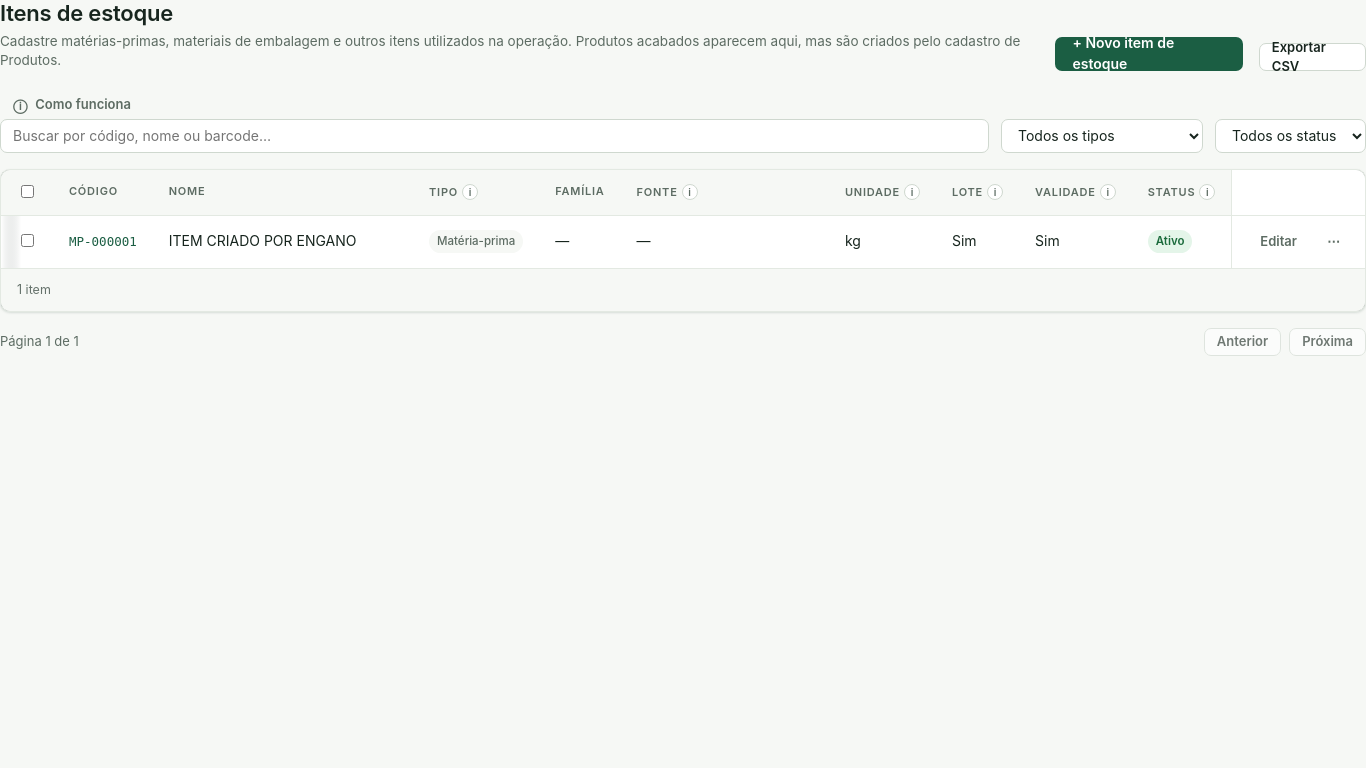
Test: Administrador › liberado pela prévia: motivo, exclusão, aviso e lista recarregada
Check: the text "MP-000001" is shown, box [53,215,153,268]
Click the button named "Mais ações de MP-000001": (1334, 242) [1318,228,1349,256]
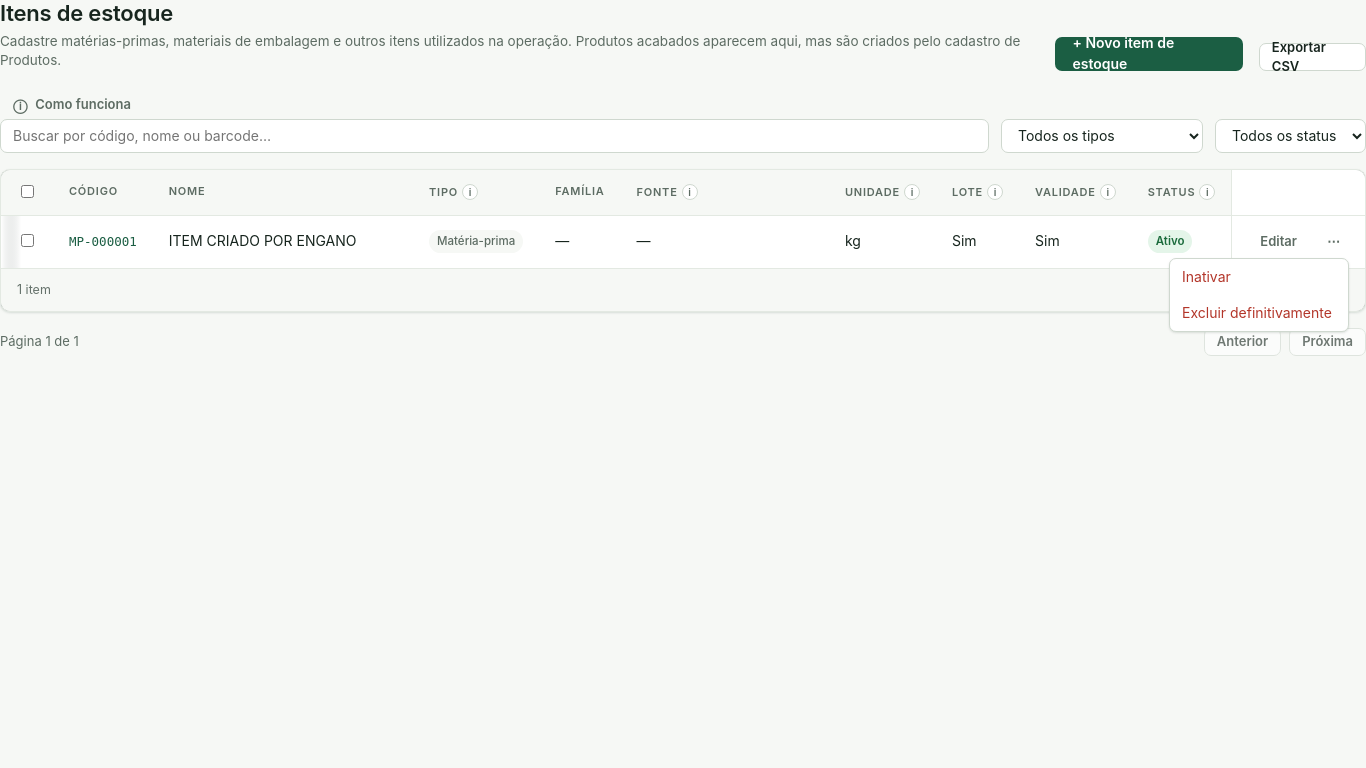
Click the menu item "Excluir definitivamente": (1259, 313) [1170,295,1348,331]
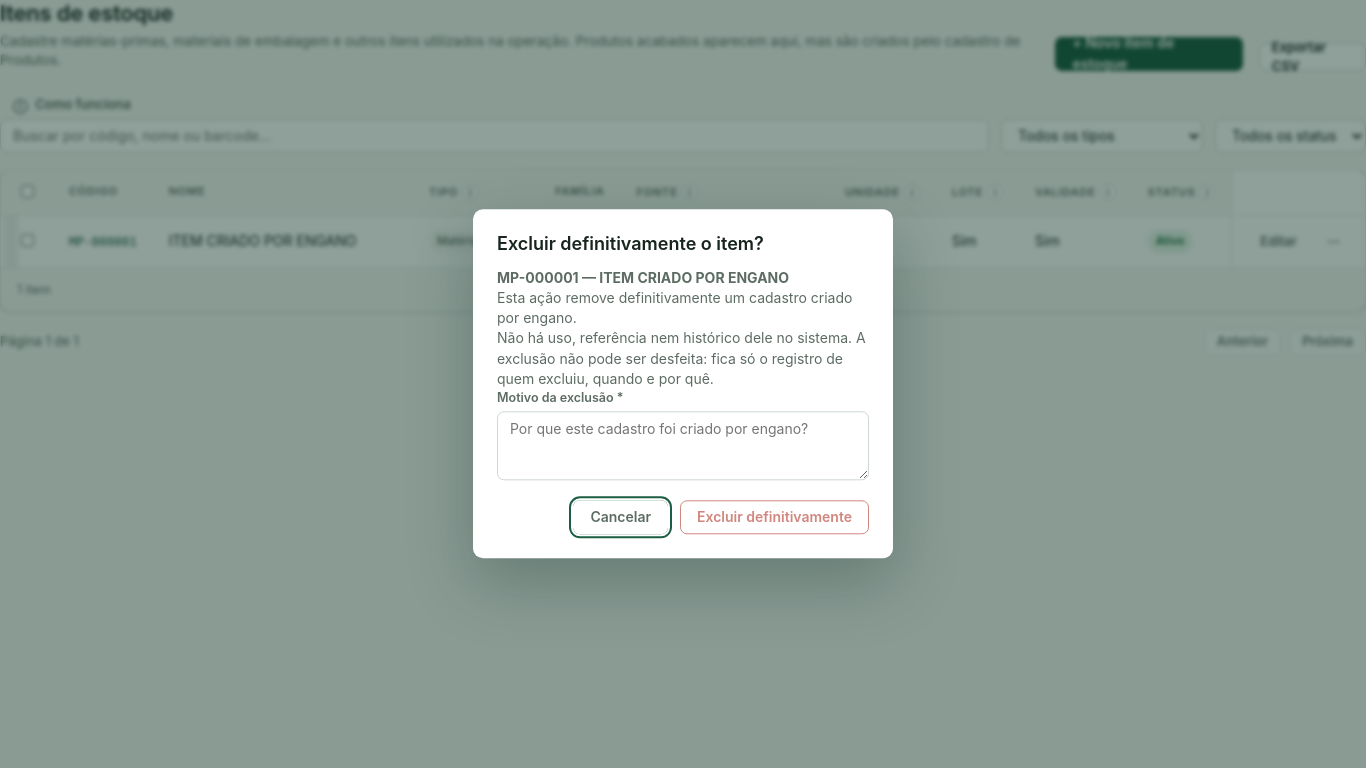
Check: the heading "Excluir definitivamente o item?" is shown, box [497,233,764,254]
In the text box labelled "Motivo da exclusão *": (683, 446) [497,412,869,481], type "Cadastrado com o tipo errado"
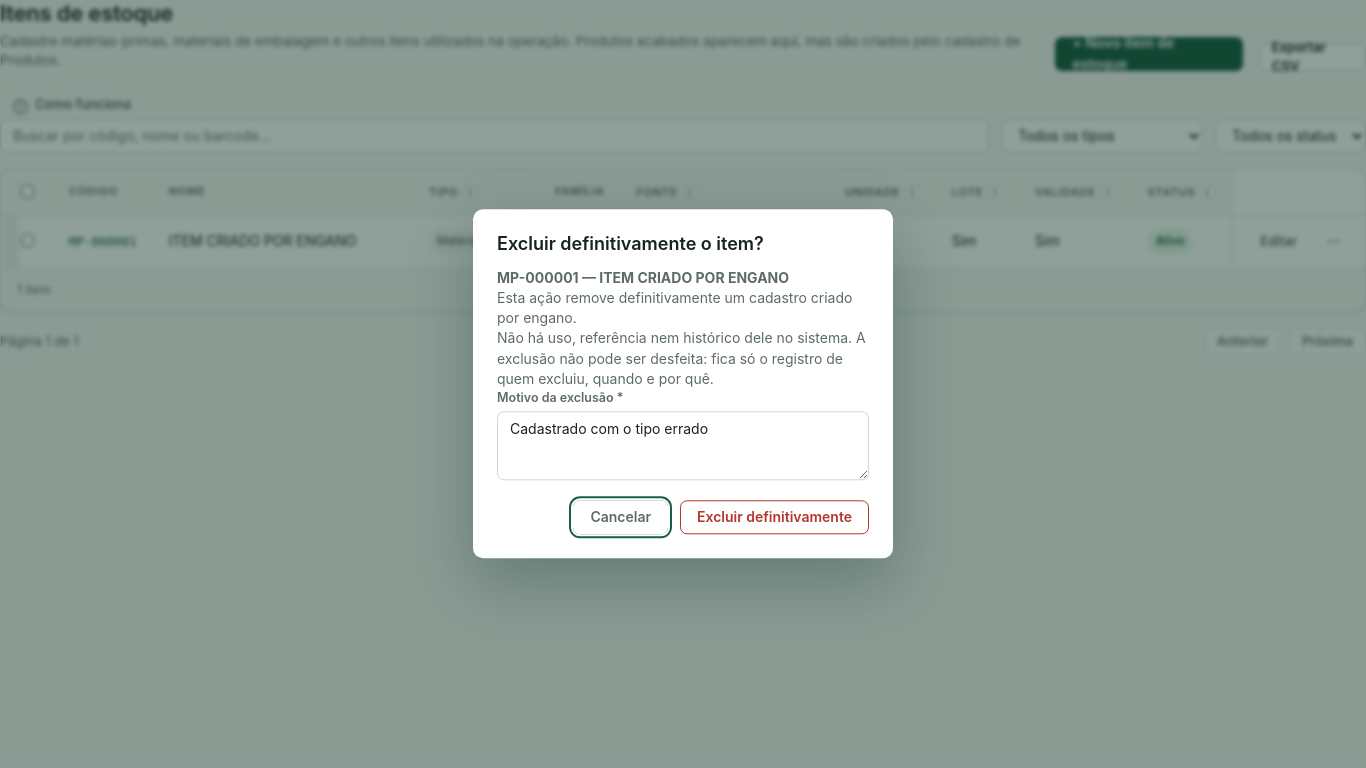
Click the button "Excluir definitivamente": (774, 518) [680,501,869,535]
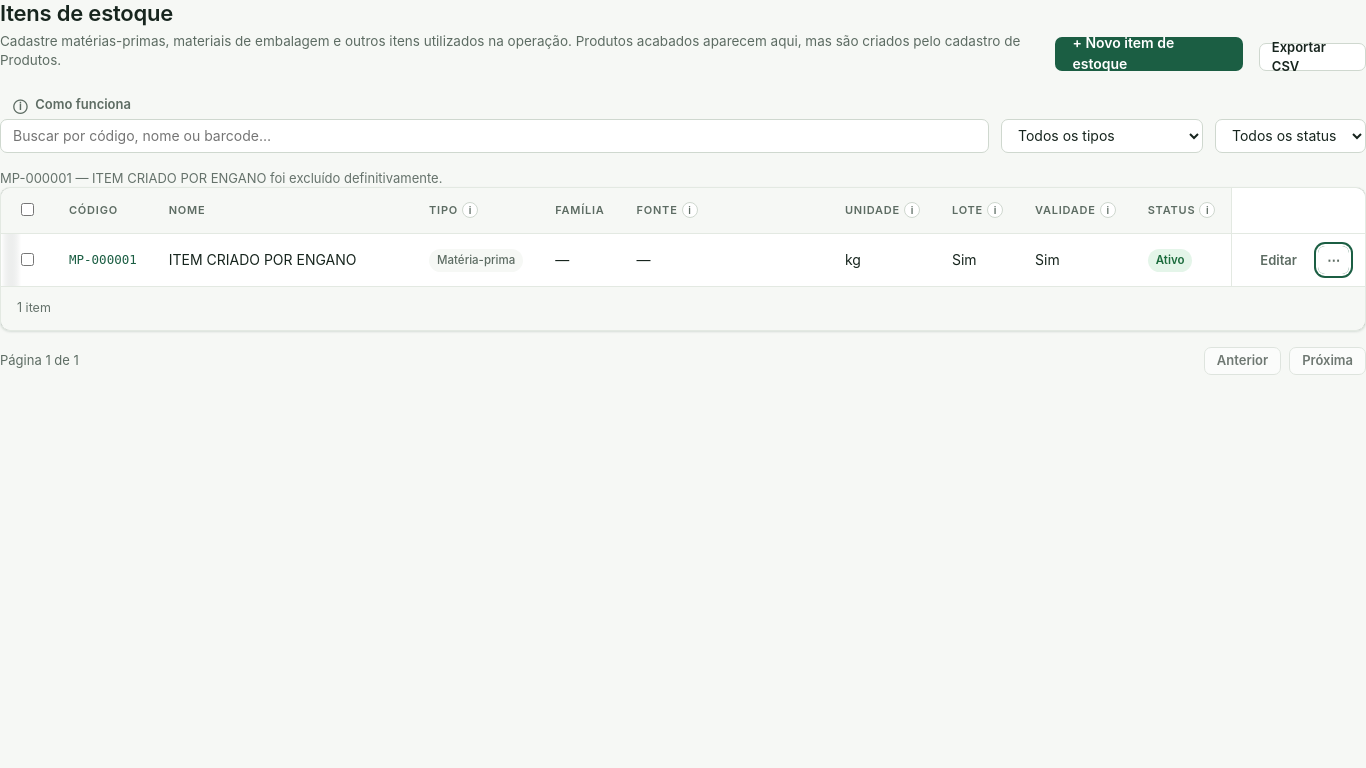
Check: the dialog is gone
